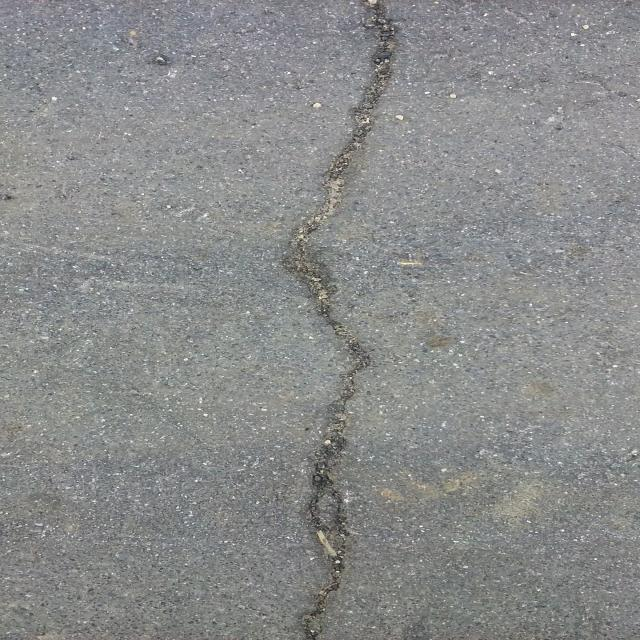Longitudial: (229, 0, 442, 640)
